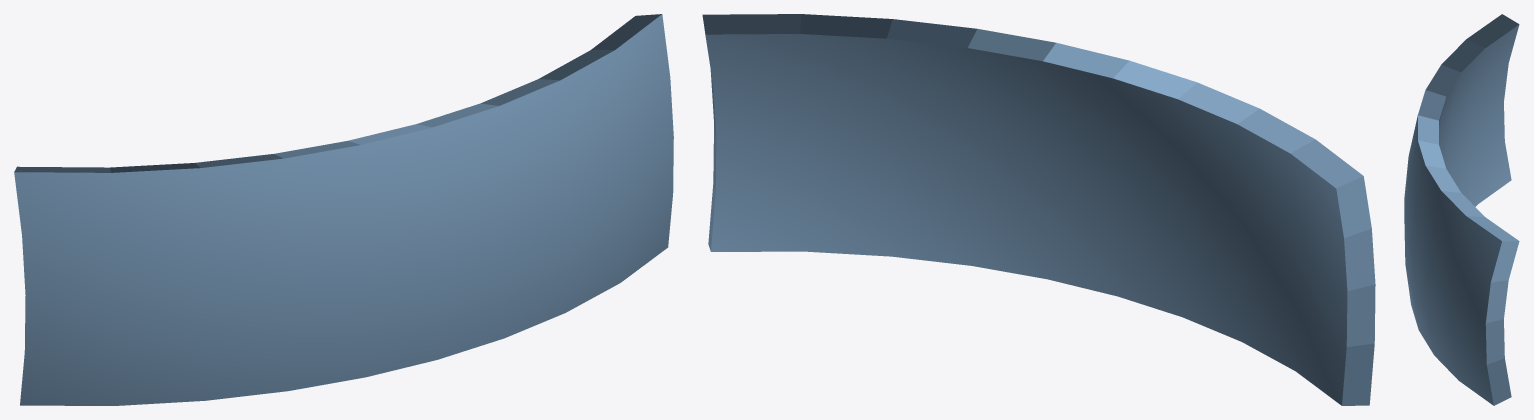
The model's file is dal_eye_mask.glb.
3 views of the same model, side by side, from view 1: azimuth 30°, elevation 25°; view 2: azimuth 150°, elevation 25°; view 3: azimuth 270°, elevation 25° (orthographic). The views are drawn at different scales.
Visible parts, largest first — view 1: dal_eye_mask_Head; view 2: dal_eye_mask_Head; view 3: dal_eye_mask_Head.
Part boxes in pixels (x1,y1,x2,y2): dal_eye_mask_Head: (14,14,673,405); dal_eye_mask_Head: (702,14,1375,405); dal_eye_mask_Head: (1404,14,1519,405).
Bounding box in the file's own units: 0.3915 × 0.1323 × 0.0837.
